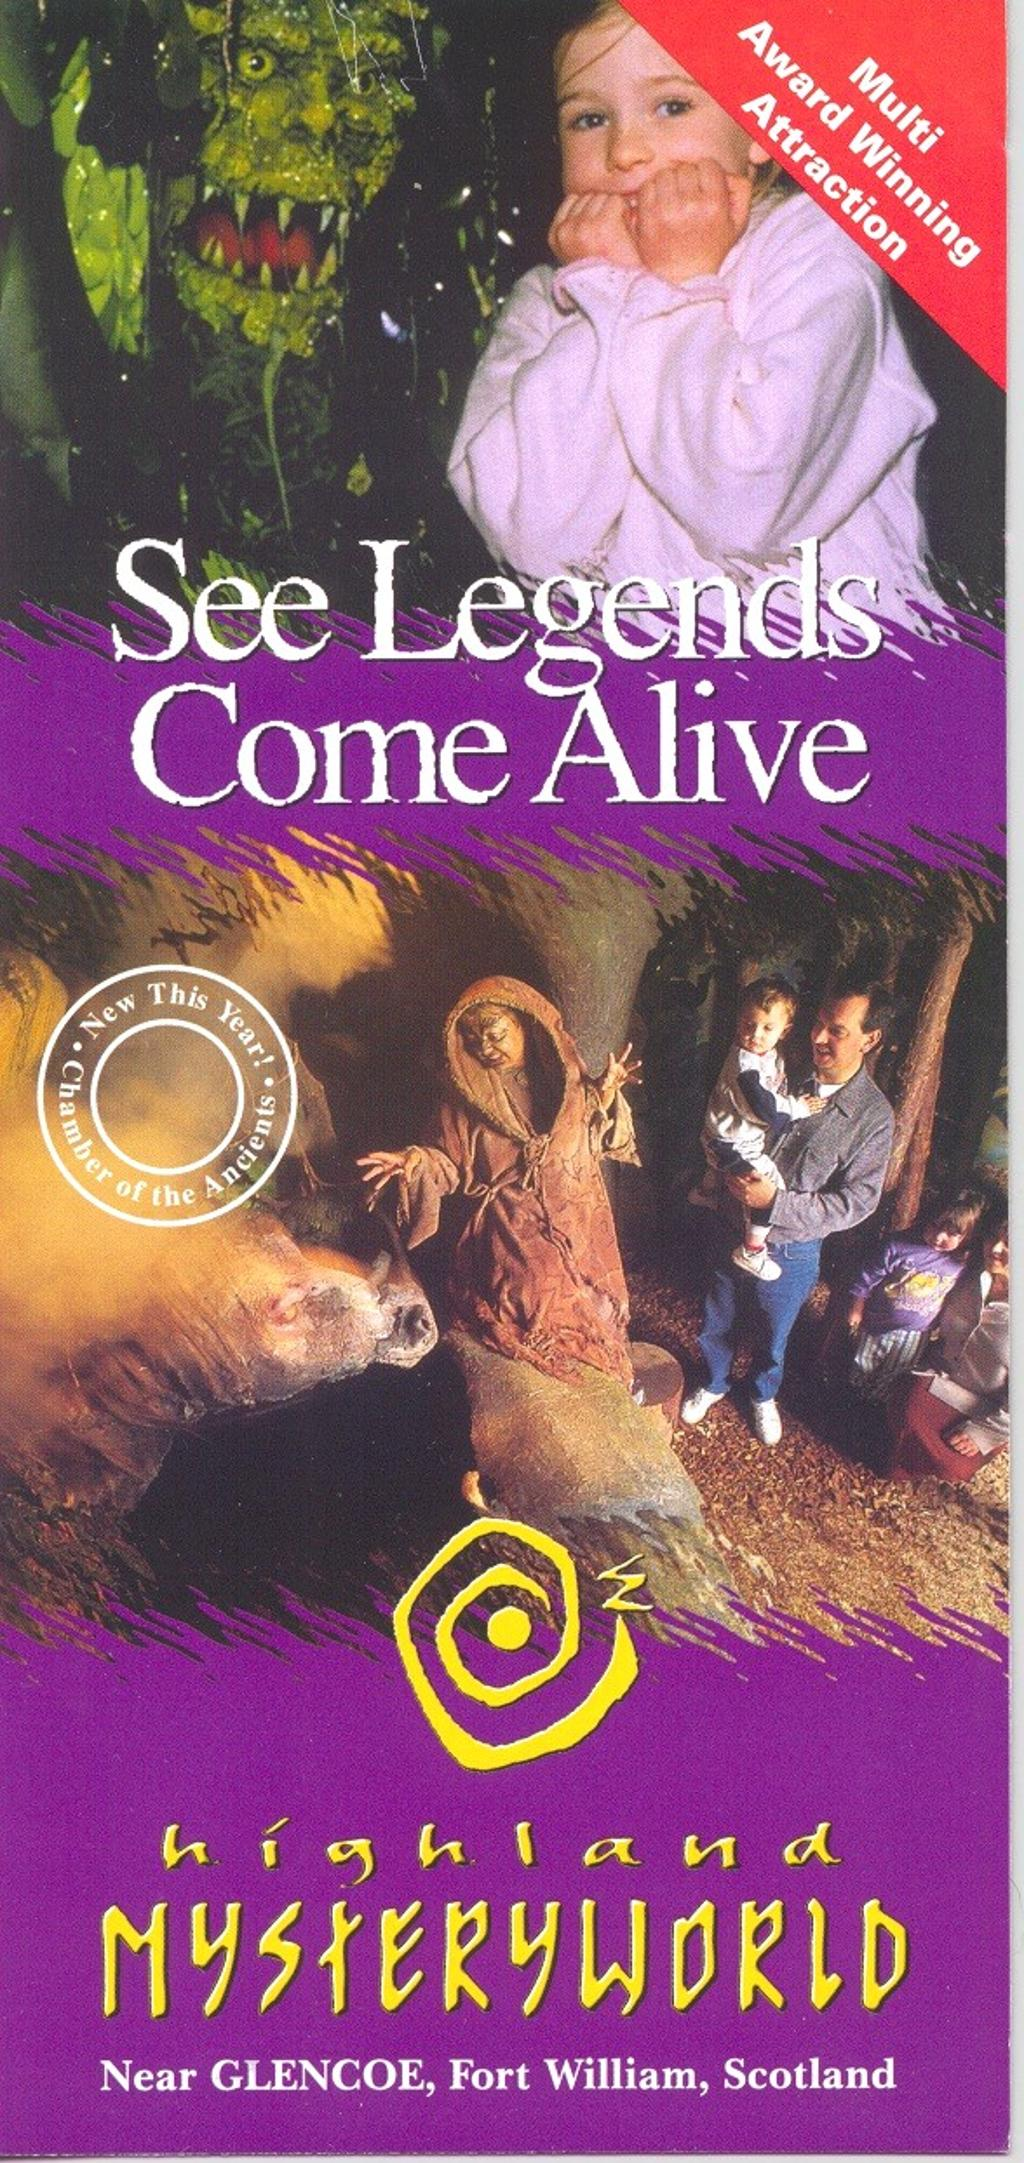face: (555, 14, 749, 240), (811, 999, 867, 1067), (460, 1007, 521, 1067), (736, 1001, 780, 1052), (923, 1214, 958, 1250), (982, 1226, 1007, 1273)
